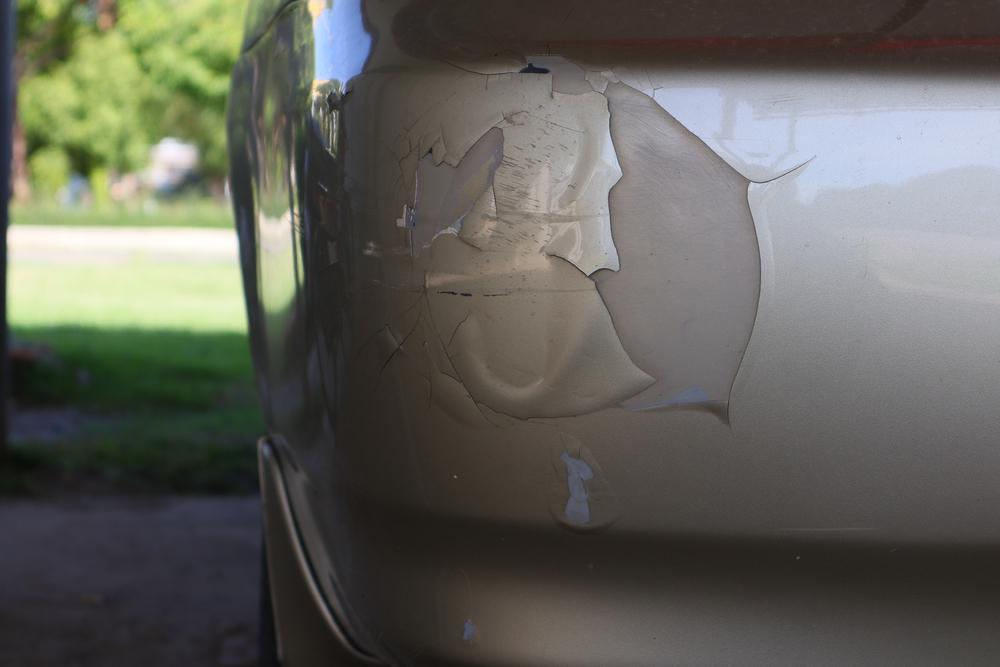scratch: (362, 51, 776, 531)
